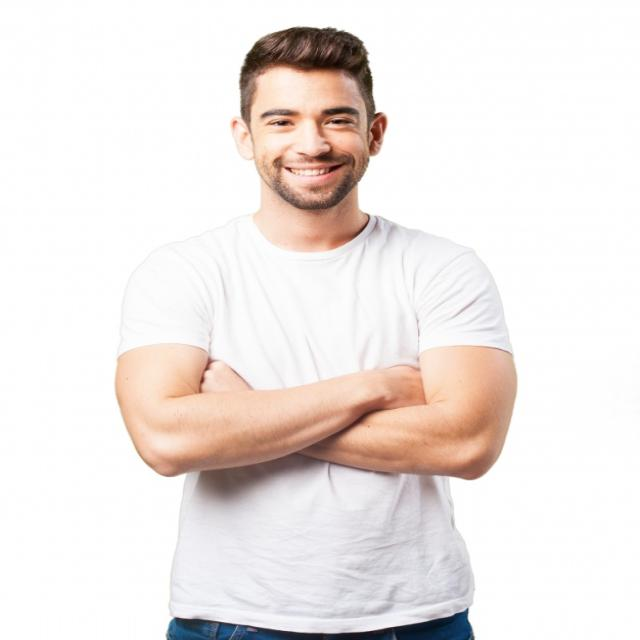human: (109, 22, 525, 640)
